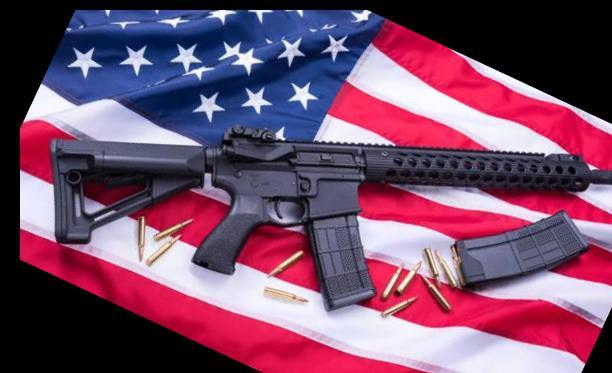larga: (50, 124, 612, 311)
